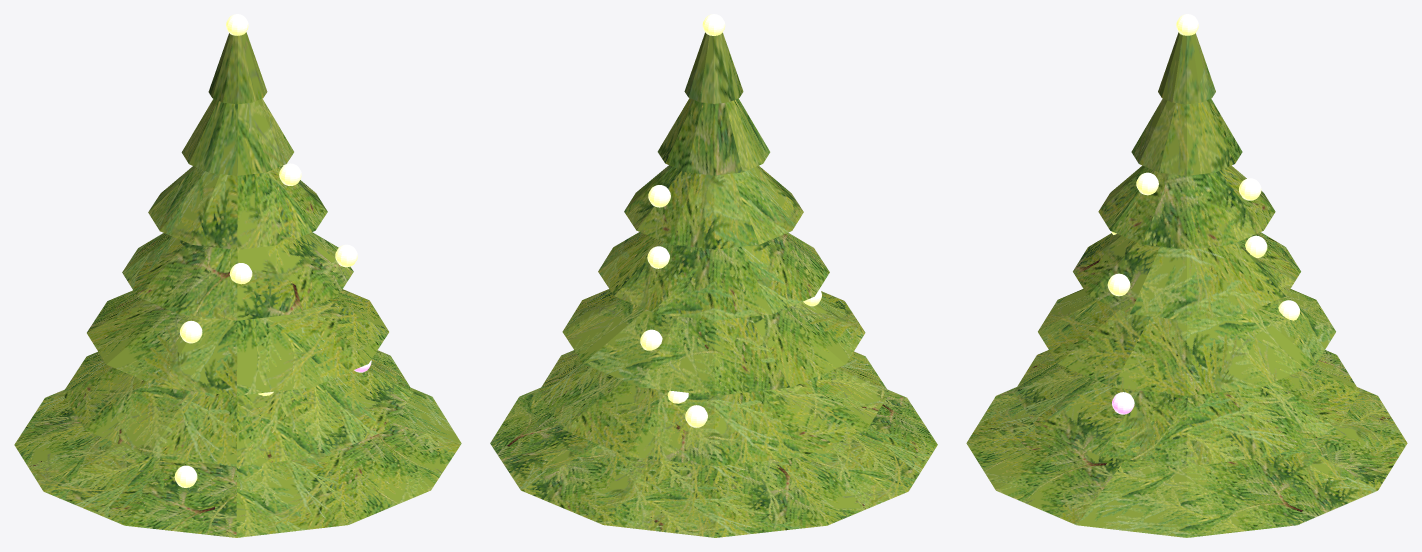
File: christmasTree.gltf
3 views of the same model, side by side, from view 1: azimuth 30°, elevation 25°; view 2: azimuth 150°, elevation 25°; view 3: azimuth 270°, elevation 25° (orthographic).
Visible parts, largest first — view 1: Cylinder.001; view 2: Cylinder.001; view 3: Cylinder.001.
Boxes of the visible parts, bbox=[...] form: Cylinder.001: bbox=[14, 14, 461, 537]; Cylinder.001: bbox=[490, 14, 937, 537]; Cylinder.001: bbox=[966, 14, 1407, 537].
Bounding box in the file's own units: 8.31 × 10.19 × 8.18.
Materials: 4 (1 with a texture image).
